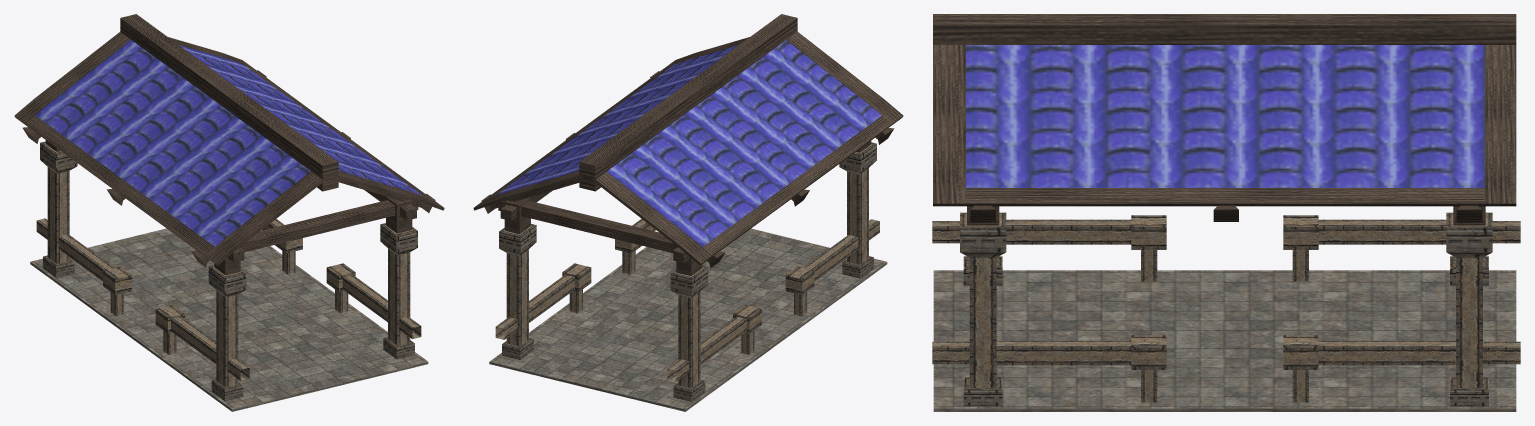
Rendered from corredorjp-ENTb.fbx.
The picture shows the model from 3 angles, left to right: view 1: azimuth 30°, elevation 25°; view 2: azimuth 150°, elevation 25°; view 3: azimuth 270°, elevation 25°; orthographic projection. The views are drawn at different scales.
Parts seen in each view (by area): view 1: Cube; view 2: Cube; view 3: Cube.
Boxes of the visible parts, <box> form: Cube: <box>14,14,444,411</box>; Cube: <box>473,14,903,411</box>; Cube: <box>932,14,1520,411</box>.
Bounding box in the file's own units: 3.36 × 3.05 × 5.04.
